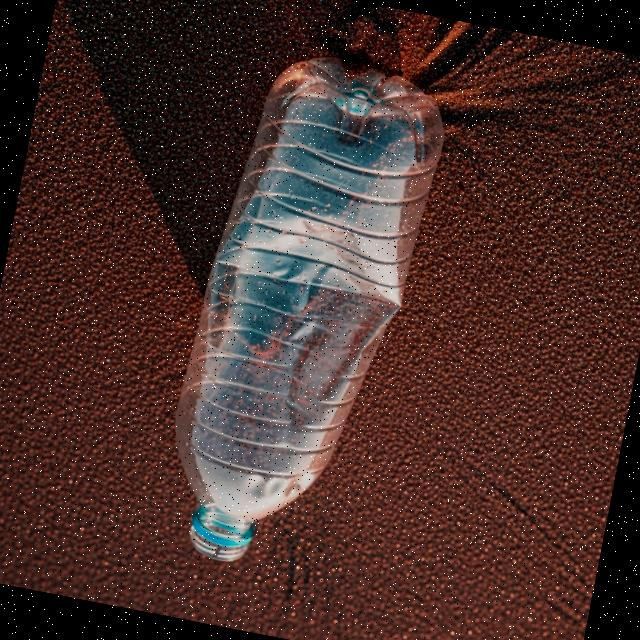plastic: (152, 38, 455, 590)
